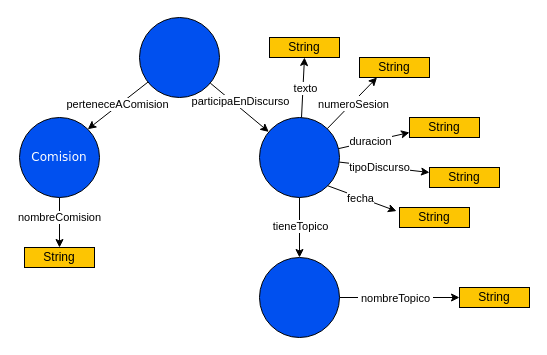
Image size: 547x355. Some labels were removed from this diagram. Here are the shapes that lost their labels. From the top down, the box of each, then its label:
(138, 16, 220, 98): Constituyente
(258, 116, 340, 198): Discurso
(258, 256, 340, 338): Topico
